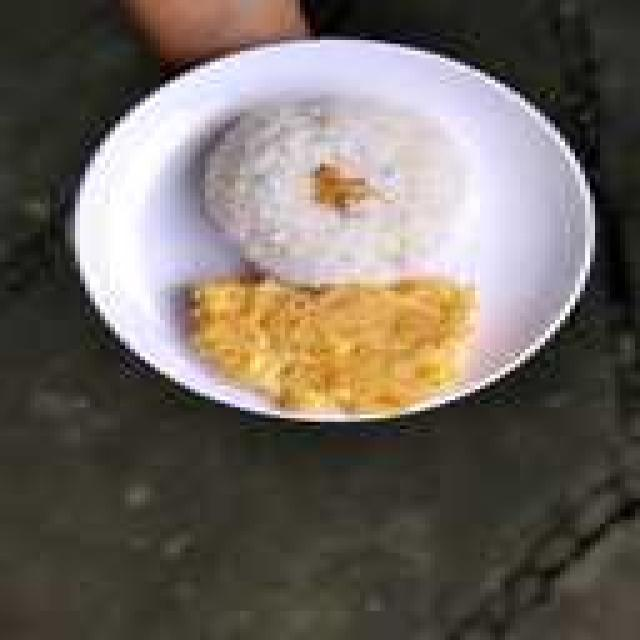nasi_putih: (215, 109, 460, 269)
telur_ayam_dadar: (205, 274, 476, 411)
